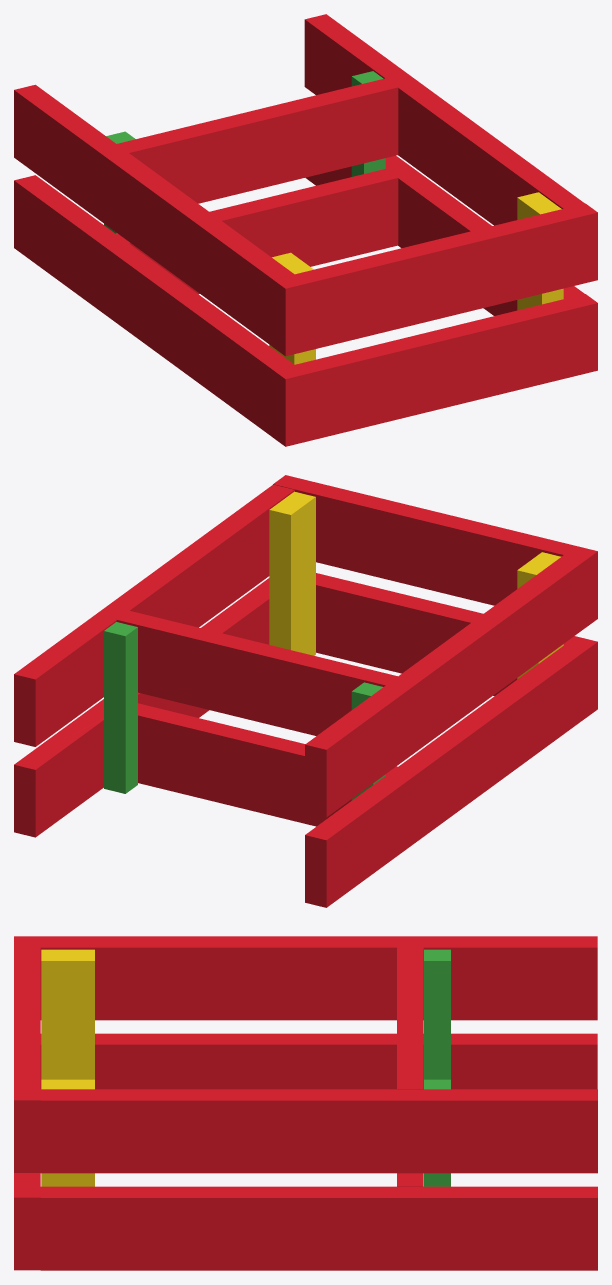
Rendered from tinker.obj.
The picture shows the model from 3 angles, top to bottom: view 1: azimuth 30°, elevation 25°; view 2: azimuth 150°, elevation 25°; view 3: azimuth 270°, elevation 25°; orthographic projection. The views are drawn at different scales.
Visible parts, largest first — view 1: group_0_15277357, group_0_16768282, group_0_4634441; view 2: group_0_15277357, group_0_16768282, group_0_4634441; view 3: group_0_15277357, group_0_16768282, group_0_4634441.
Boxes of the visible parts, x1=… form: group_0_15277357: x1=14, y1=14, x2=597, y2=446; group_0_16768282: x1=269, y1=192, x2=563, y2=364; group_0_4634441: x1=104, y1=71, x2=385, y2=234; group_0_15277357: x1=14, y1=475, x2=597, y2=907; group_0_16768282: x1=269, y1=491, x2=563, y2=679; group_0_4634441: x1=104, y1=622, x2=385, y2=800; group_0_15277357: x1=14, y1=936, x2=597, y2=1270; group_0_16768282: x1=41, y1=949, x2=94, y2=1186; group_0_4634441: x1=424, y1=949, x2=450, y2=1186.
Size of the model in its own units: 174 by 85.1 by 262.
